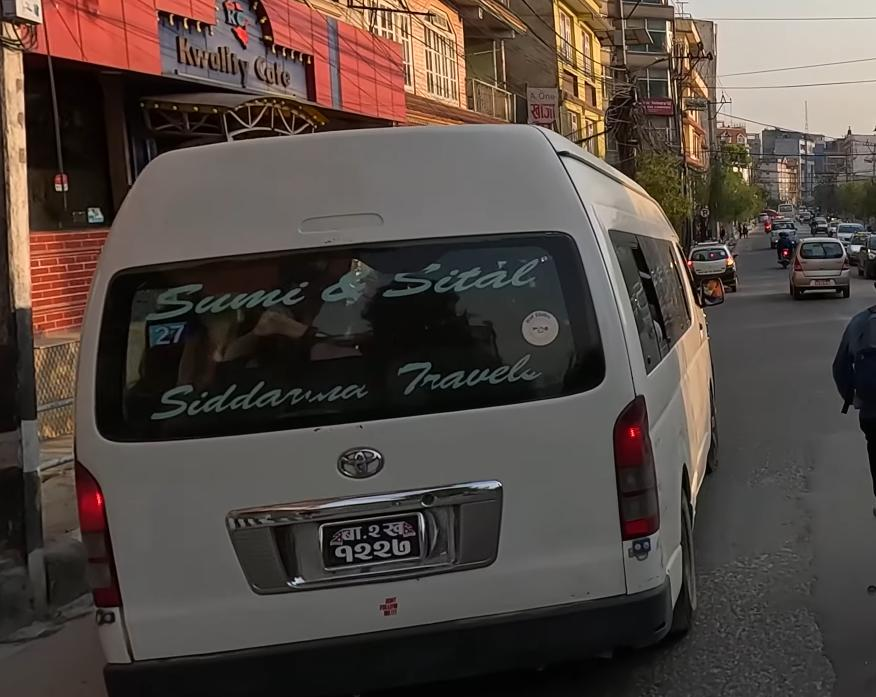car: (786, 235, 852, 300)
micro_bus: (68, 113, 731, 697)
taxi: (681, 239, 738, 297)
